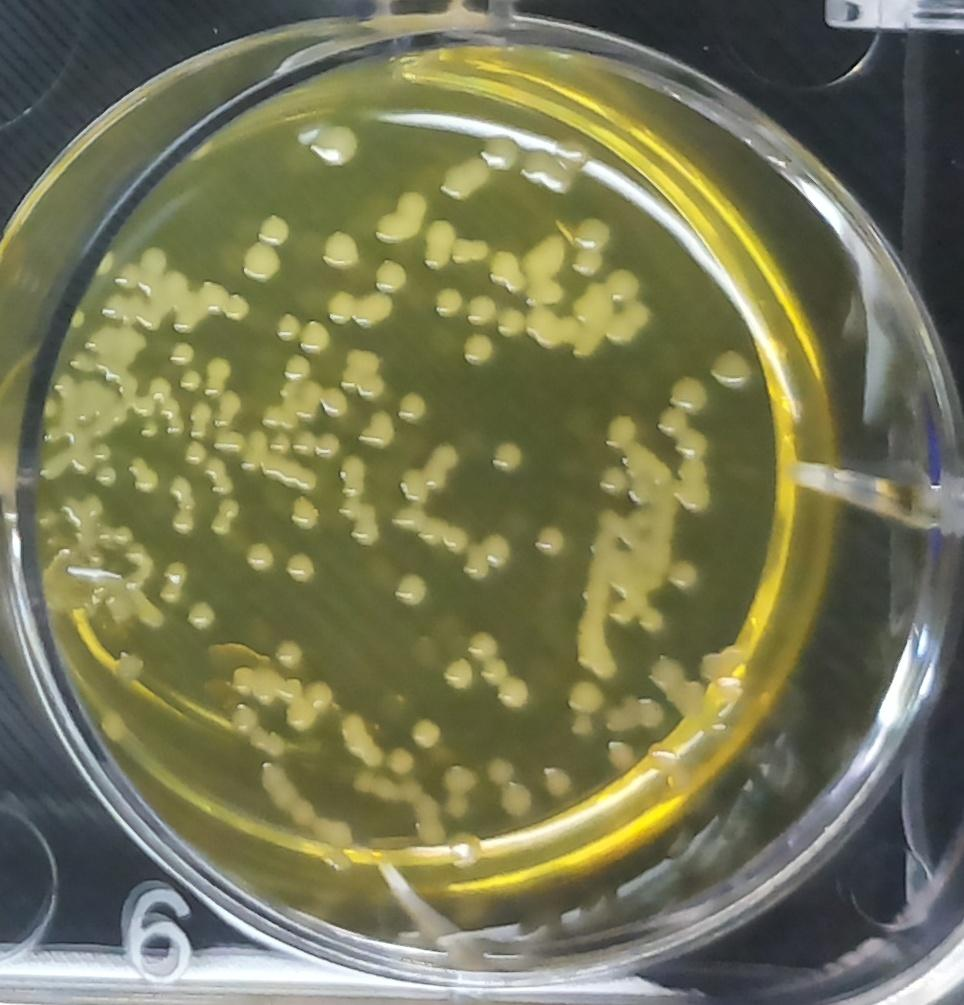vharveyi: (486, 431, 526, 478), (389, 570, 433, 611), (531, 522, 568, 564)
